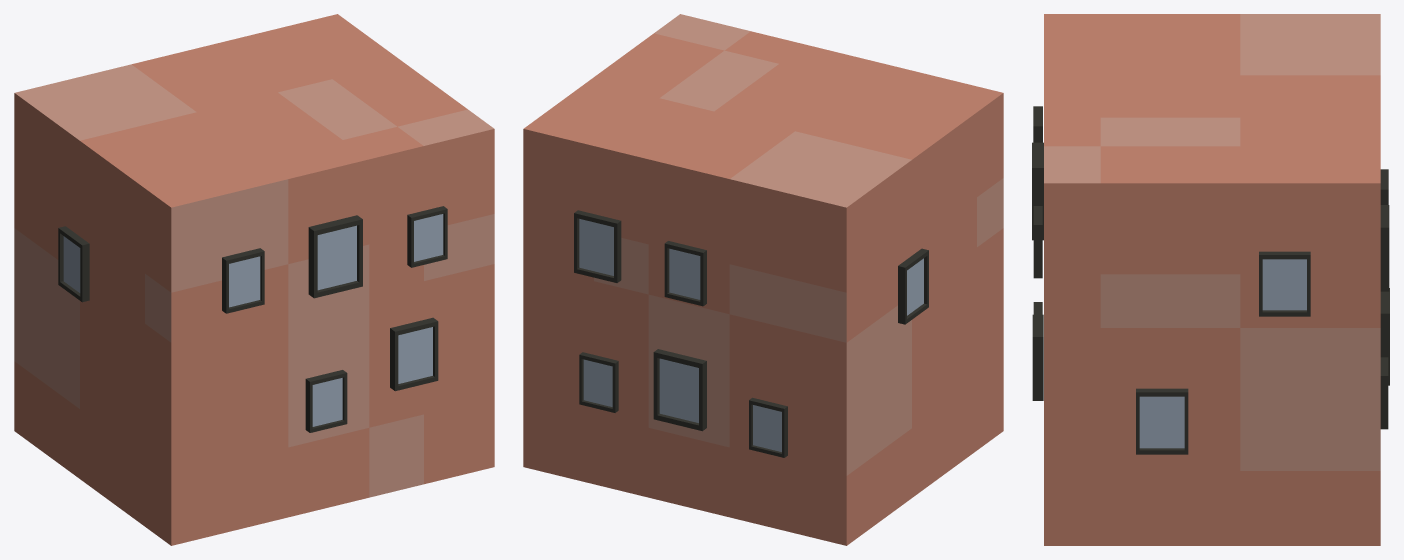
The model's file is house.fbx.
3 views of the same model, side by side, from view 1: azimuth 30°, elevation 25°; view 2: azimuth 150°, elevation 25°; view 3: azimuth 270°, elevation 25° (orthographic). The views are drawn at different scales.
Visible parts, largest first — view 1: house, window, window.003, window.002, window.004, window.001, window.012; view 2: house, window.005, window.008, window.009, window.007, window.006, window.012; view 3: house, window.011, window.010, window.003, window, window.008, window.001, window.005, window.007.
Part boxes in pixels (x1,y1,x2,y2): house: (14,14,494,545); window: (308,215,362,298); window.003: (390,317,438,391); window.002: (222,248,264,313); window.004: (305,370,347,432); window.001: (407,206,447,267); window.012: (58,226,89,302); house: (523,14,1003,545); window.005: (653,349,706,431); window.008: (574,210,621,282); window.009: (664,241,706,306); window.007: (579,352,618,412); window.006: (749,397,787,457); window.012: (898,248,928,324); house: (1044,14,1380,545); window.011: (1136,388,1188,454); window.010: (1259,251,1310,316); window.003: (1032,314,1043,400); window: (1032,142,1043,240); window.008: (1380,205,1389,291); window.001: (1033,206,1042,278); window.005: (1380,288,1389,385); window.007: (1380,357,1388,429).
Bounding box in the file's own units: 19.5 × 18.7 × 16.71.
